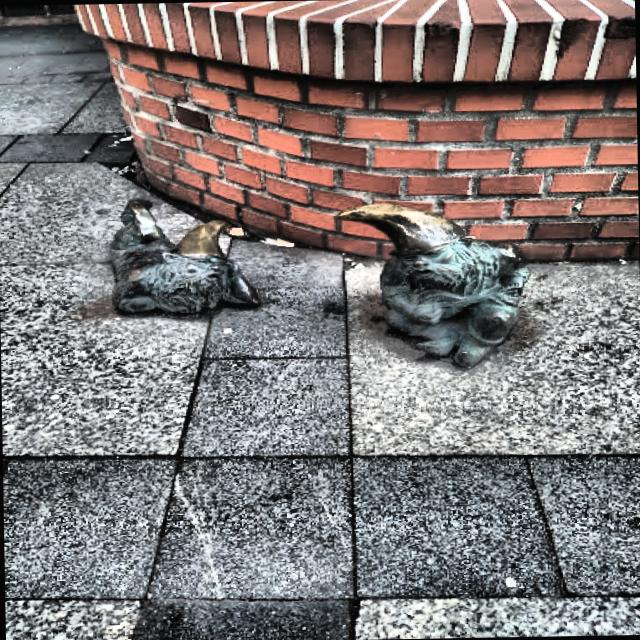Grajek_i_Meloman: (322, 203, 529, 369), (107, 198, 298, 315)
